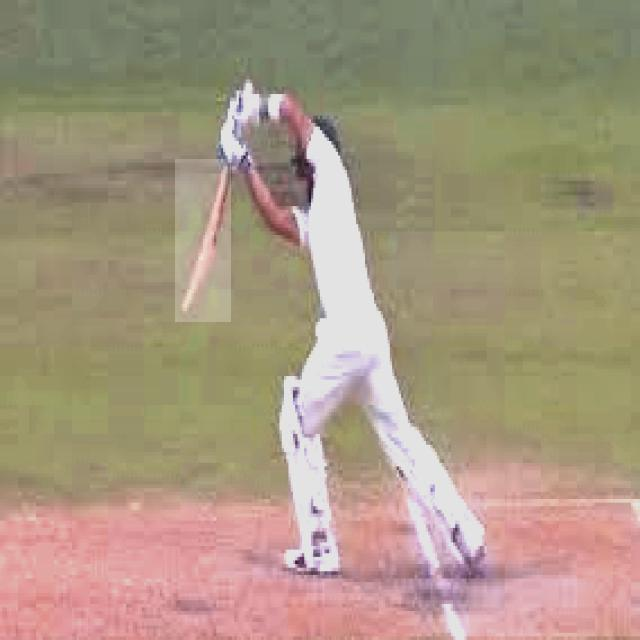bat: (173, 158, 233, 325)
toe: (170, 298, 200, 325)
